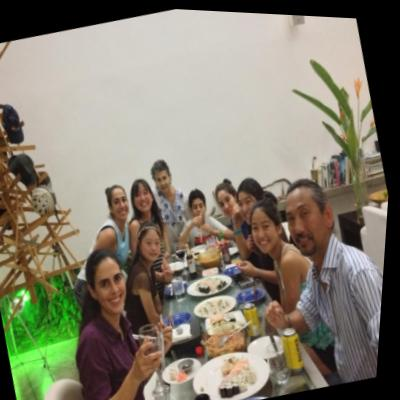happy: (282, 186, 338, 259), (94, 256, 138, 316), (249, 203, 287, 254), (235, 186, 266, 224), (110, 181, 136, 220), (142, 229, 169, 261), (133, 180, 157, 212)
netural: (216, 185, 243, 218), (155, 165, 175, 193), (194, 194, 212, 217)
